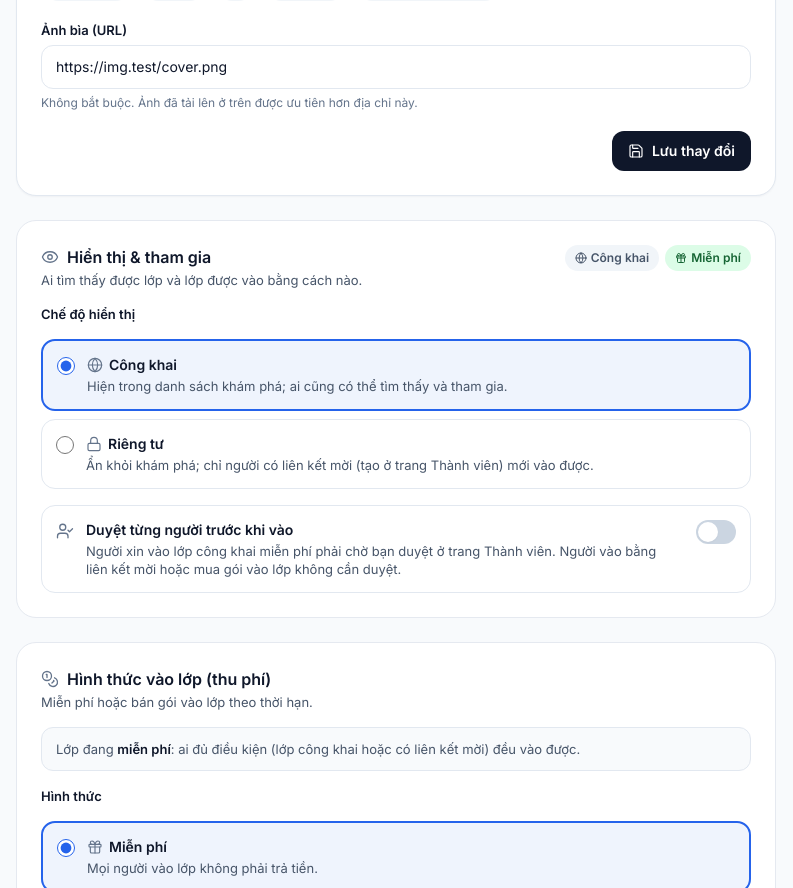
it: StudioSettings - visibility (Hiển thị & tham gia) › a server error is shown in the section and the confirmation stays open
(page scrolled)
Click the radio button labelled "Riêng tư": [65, 445] box [56, 436, 74, 454]
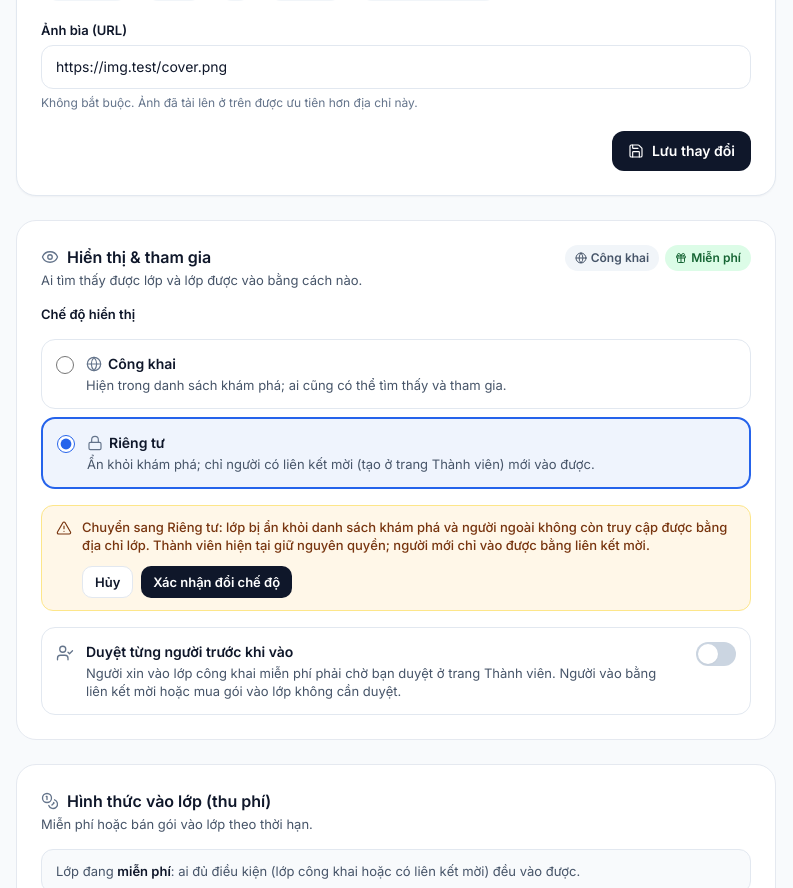
Click the button "Xác nhận đổi chế độ": [217, 582] box [141, 566, 292, 598]
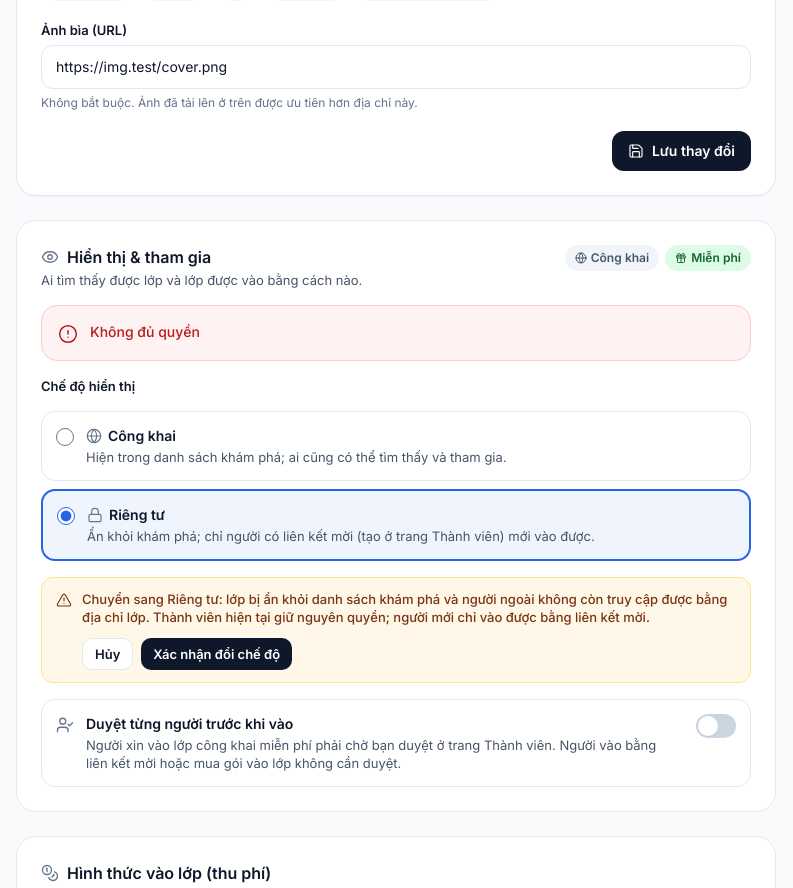
Expected: the text "Không đủ quyền" is shown, [90, 323, 200, 340]
